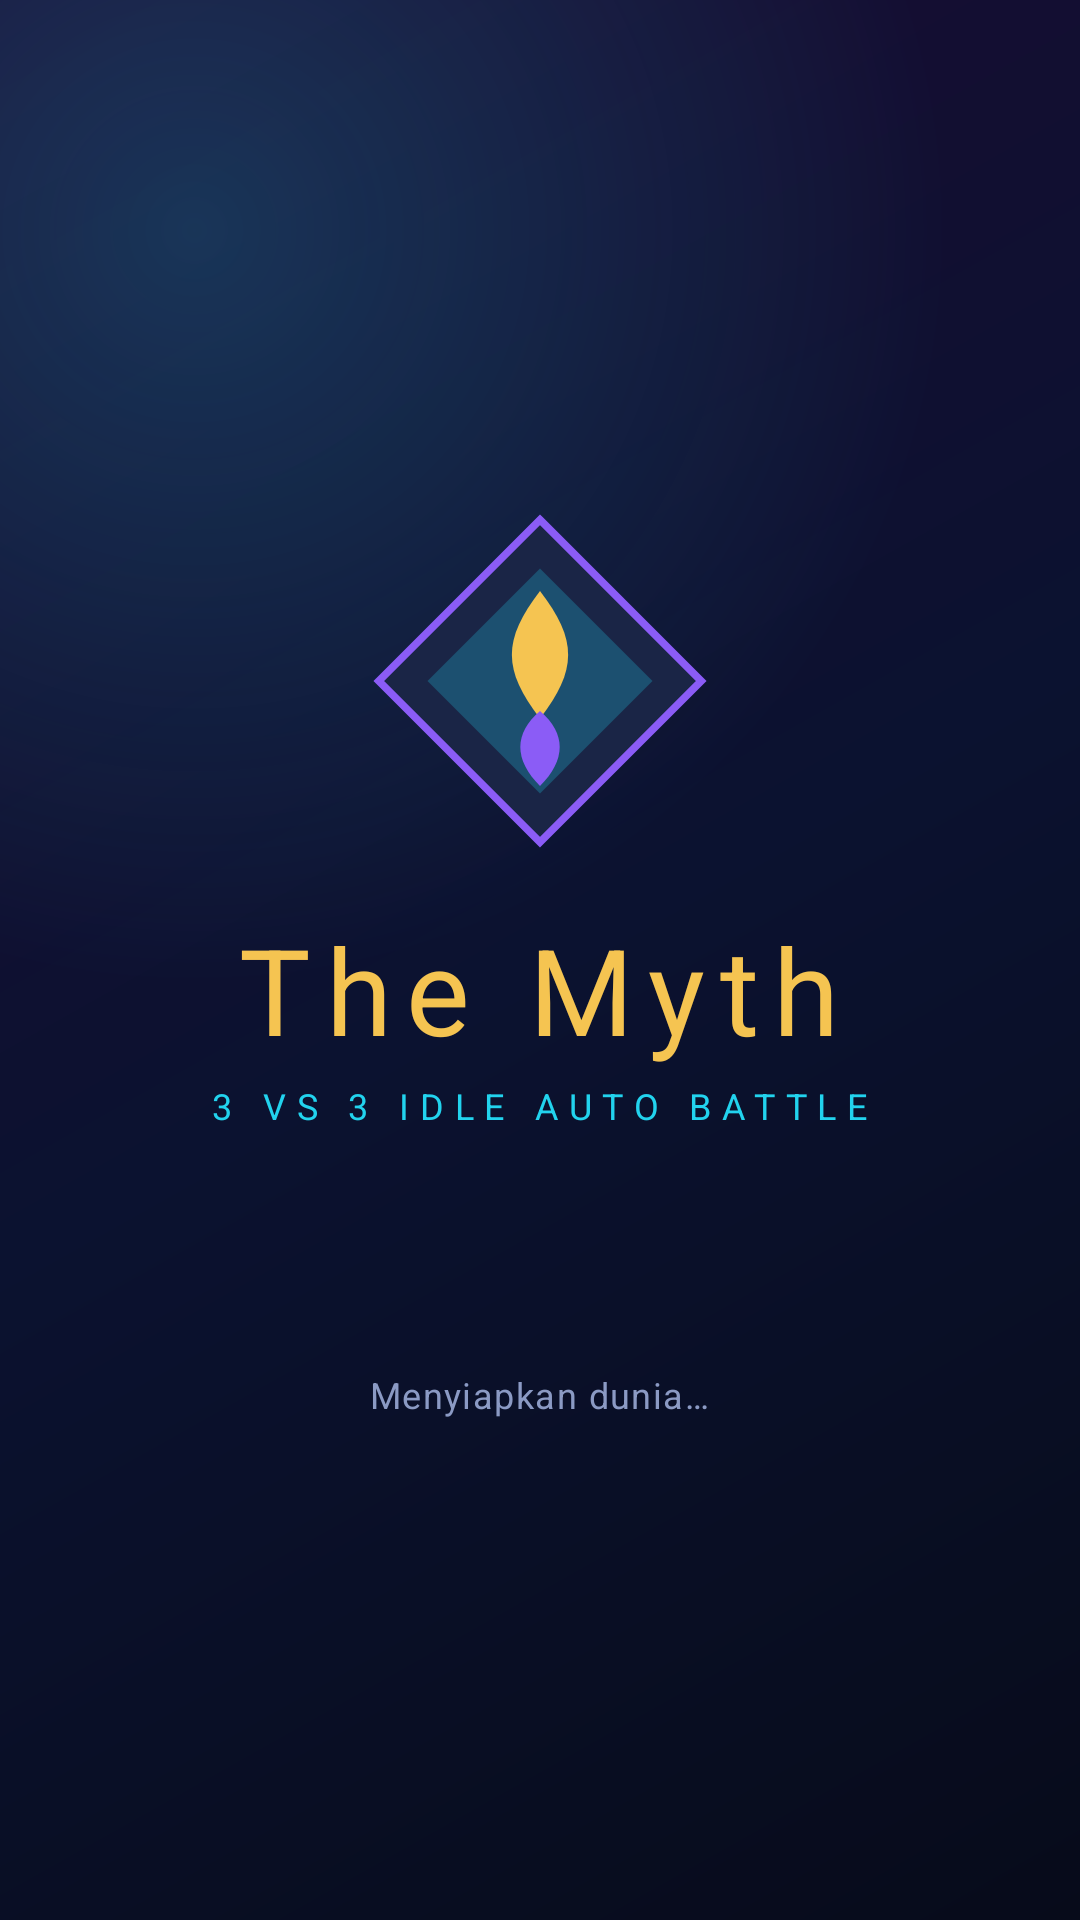

Named icons in this screenshot (1080px×1920px) and their centers, (x=x, y=y):
myth emblem: (x=533, y=674)
